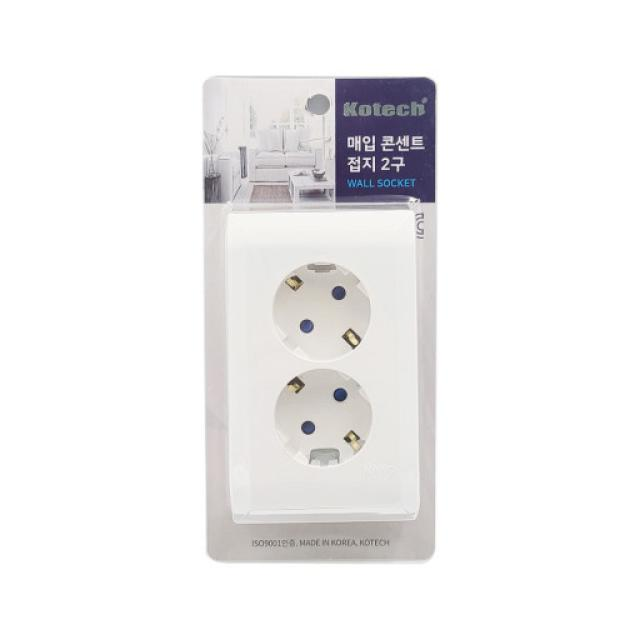typeb: (182, 185, 460, 577)
